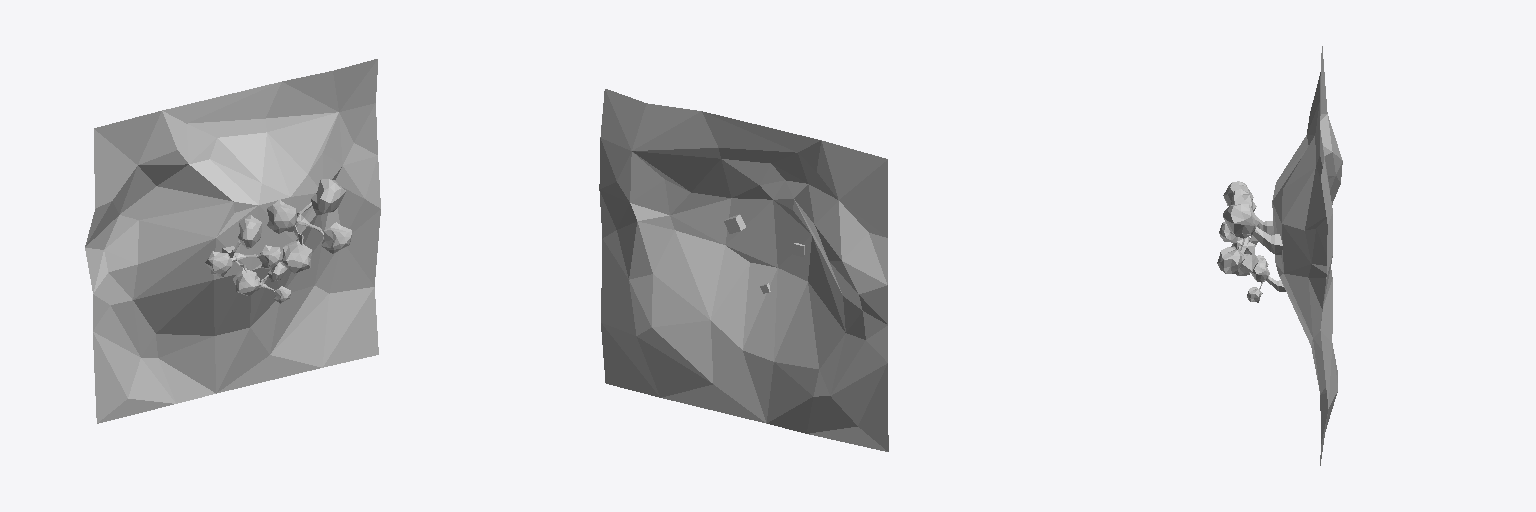
File: island_with_oak.obj
The picture shows the model from 3 angles: view 1: azimuth 30°, elevation 25°; view 2: azimuth 150°, elevation 25°; view 3: azimuth 270°, elevation 25°; orthographic projection.
Parts seen in each view (by area): view 1: Plane, Cube.002, Cube.001; view 2: Plane; view 3: Plane, Cube.002, Cube.001, Cube.003.
Part boxes in pixels (bbox=[...]): Plane: bbox=[85, 59, 380, 423]; Cube.002: bbox=[267, 179, 351, 273]; Cube.001: bbox=[205, 215, 282, 295]; Plane: bbox=[599, 89, 888, 451]; Plane: bbox=[1272, 46, 1342, 465]; Cube.002: bbox=[1217, 189, 1282, 275]; Cube.001: bbox=[1219, 181, 1273, 248]; Cube.003: bbox=[1247, 255, 1285, 302].
Bounding box in the file's own units: 2.05 × 2 × 0.7676.